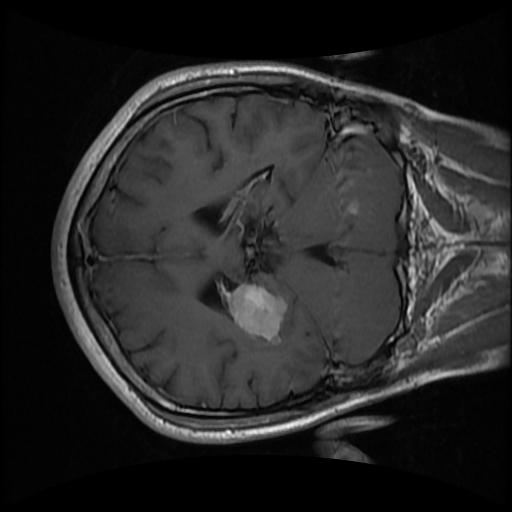meningioma: (227, 282, 287, 341)
